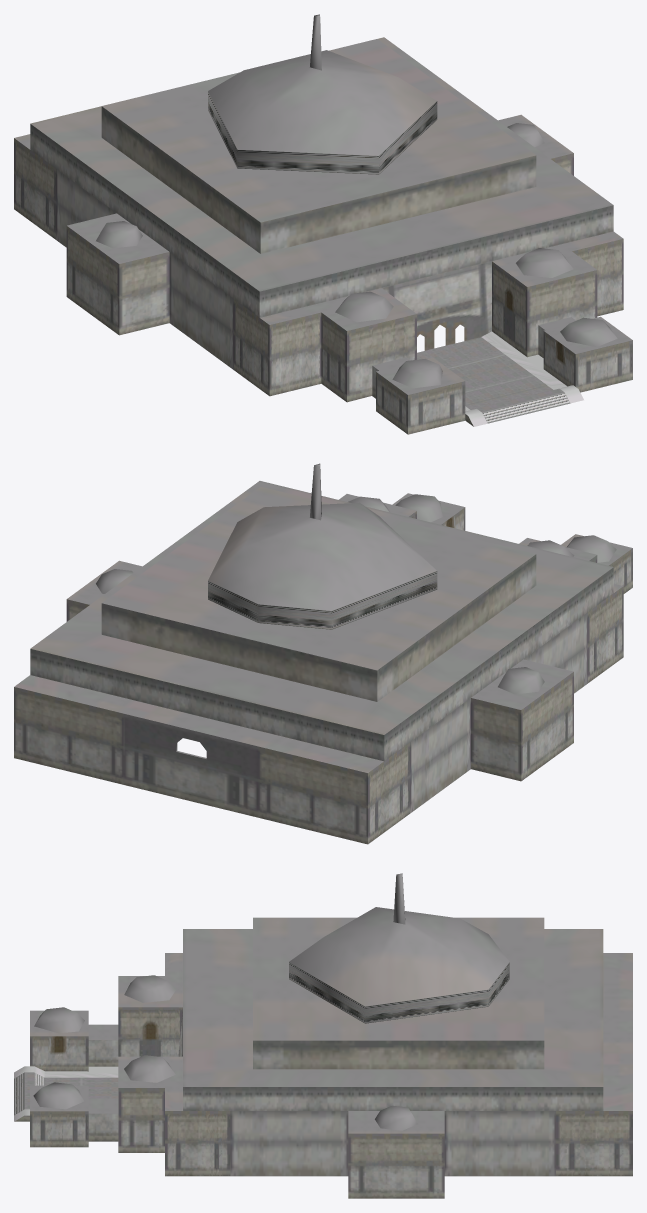
Rendered from mun_corl_capitol_s01_r0_mesh_l4.fbx.
3 views of the same model, one above another, from view 1: azimuth 30°, elevation 25°; view 2: azimuth 150°, elevation 25°; view 3: azimuth 270°, elevation 25° (orthographic). The views are drawn at different scales.
Parts seen in each view (by area): view 1: mesh_node; view 2: mesh_node; view 3: mesh_node.
Boxes of the visible parts, left/top/right/bottom form: mesh_node: left=14, top=14, right=632, bottom=434; mesh_node: left=14, top=463, right=632, bottom=844; mesh_node: left=14, top=873, right=632, bottom=1198.
Size of the model in its own units: 82.46 by 42.14 by 106.
Materials: 1 (1 with a texture image).
